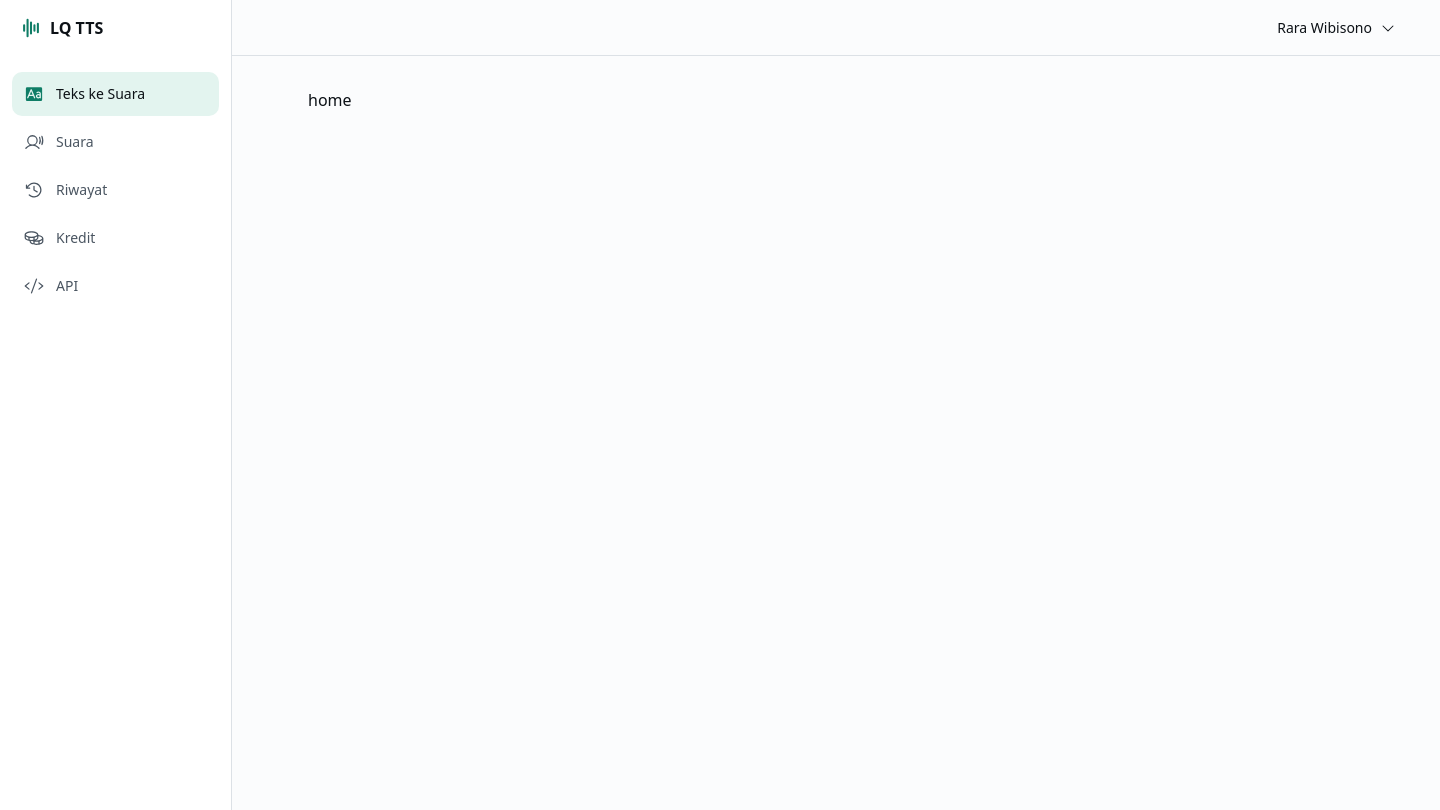
Test: AppShell › keeps the session and says so when logout fails
This screenshot has width=1440, height=810.
Click the button with test id "account-button".
click(1337, 28)  # box [1265,8,1408,48]
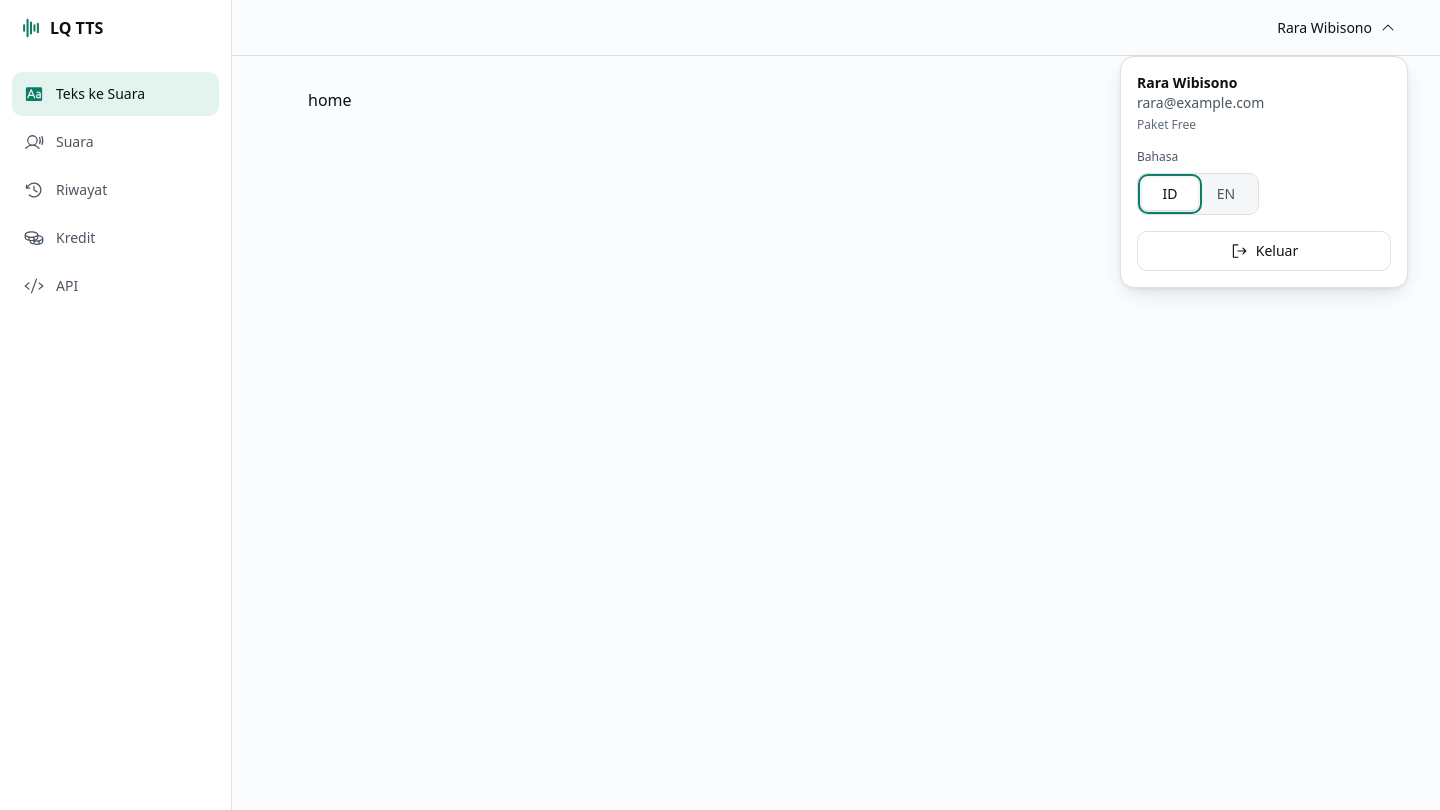
Click the button with test id "logout".
click(1264, 250)  # box [1137,230,1391,270]
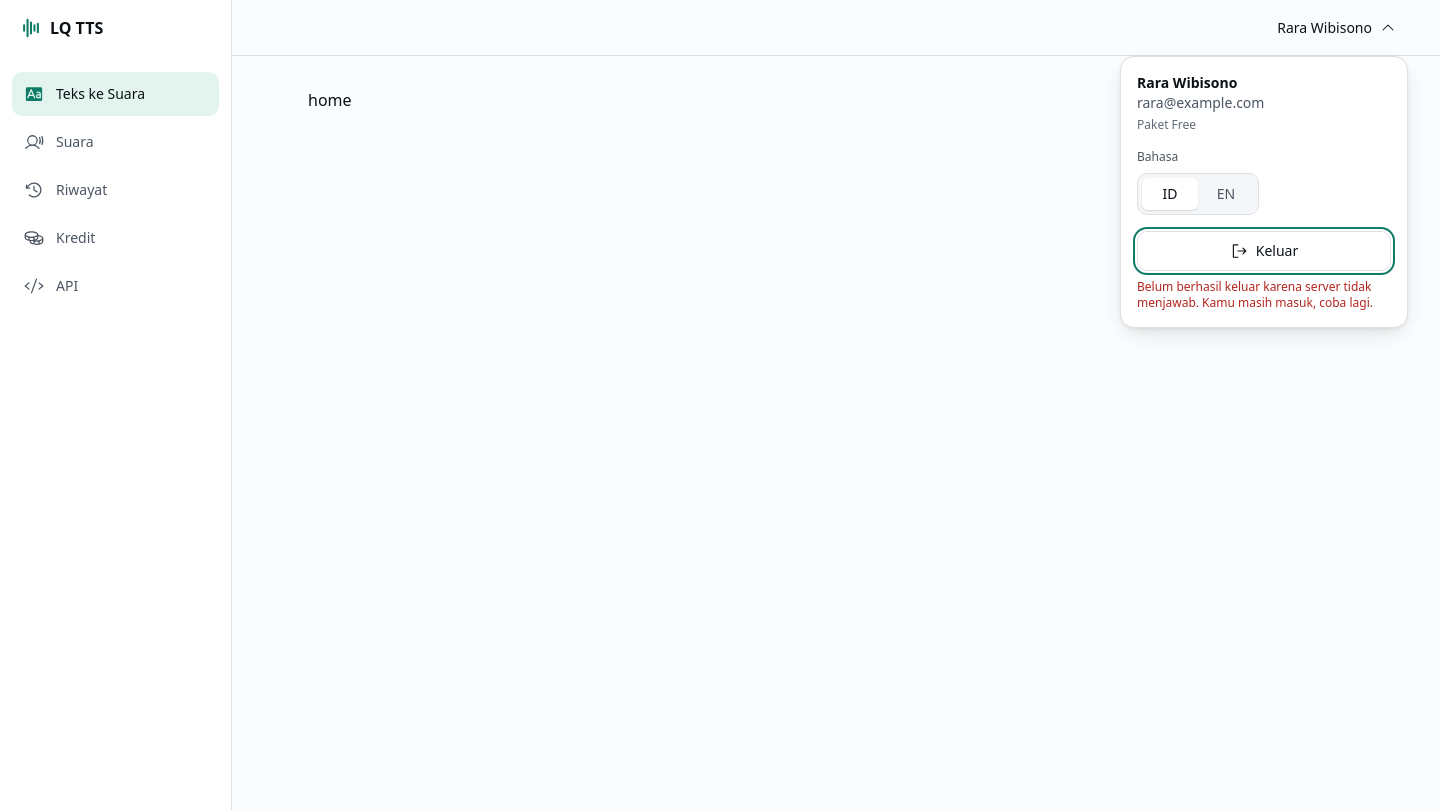
Expected: the text "home" is shown, [308,89,352,111]
Expected: the text "Belum berhasil keluar karena server tidak menjawab. Kamu masih masuk, coba lagi." is shown, [1137,278,1391,310]
